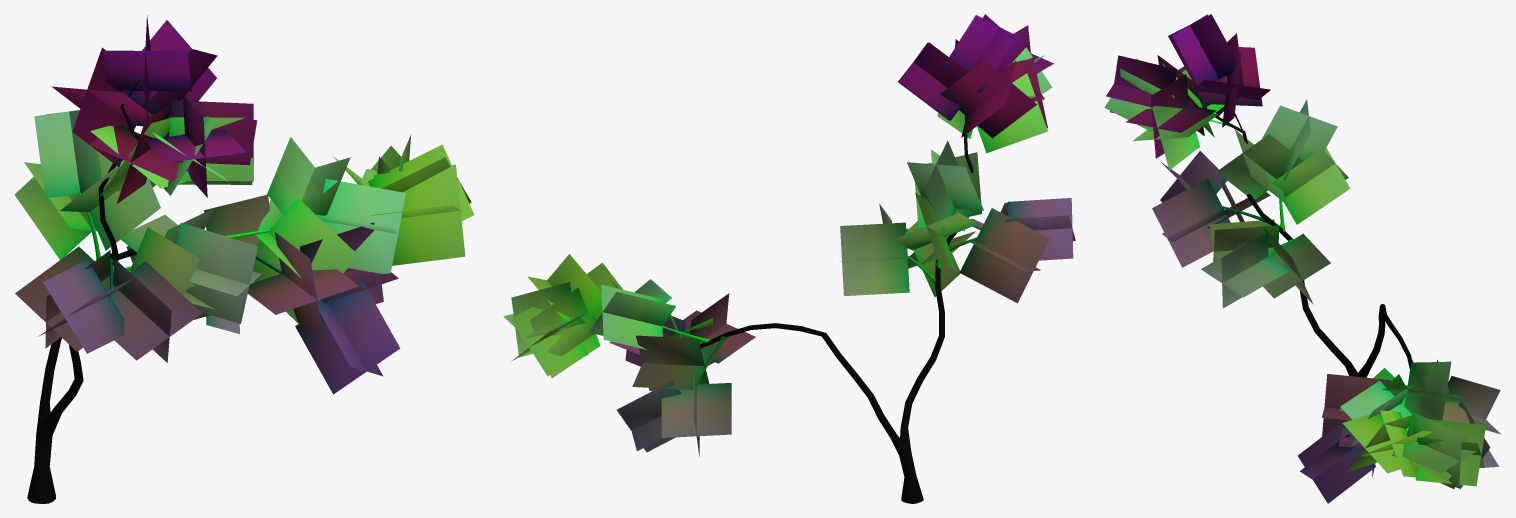
File: URP_P5_Tree_8_LOD_1.fbx
The picture shows the model from 3 angles, left to right: view 1: azimuth 30°, elevation 25°; view 2: azimuth 150°, elevation 25°; view 3: azimuth 270°, elevation 25°; orthographic projection. The views are drawn at different scales.
Visible parts, largest first — view 1: Tree_8_LOD_1; view 2: Tree_8_LOD_1; view 3: Tree_8_LOD_1.
Boxes of the visible parts, x1,y1,x2,y2 form: Tree_8_LOD_1: [14, 15, 474, 503]; Tree_8_LOD_1: [503, 14, 1075, 503]; Tree_8_LOD_1: [1104, 14, 1500, 503].
Bounding box in the file's own units: 618 × 567 × 492.
